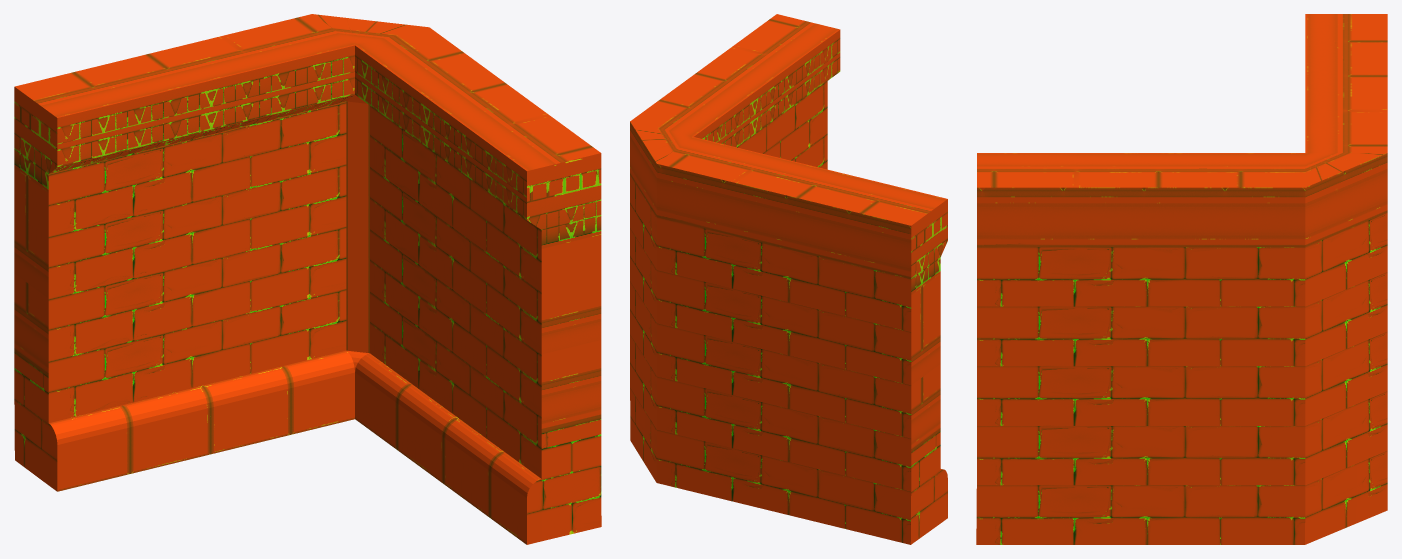
File: Small_Inner_Wall_Corner_ UV Complete.fbx
3 renders of one model, left to right at view 1: azimuth 30°, elevation 25°; view 2: azimuth 150°, elevation 25°; view 3: azimuth 270°, elevation 25°, orthographic. The views are drawn at different scales.
Parts seen in each view (by area): view 1: Wall_0019; view 2: Wall_0019; view 3: Wall_0019.
Part boxes in pixels (left/top/right/bottom): Wall_0019: left=14, top=14, right=601, bottom=544; Wall_0019: left=630, top=14, right=947, bottom=544; Wall_0019: left=976, top=14, right=1387, bottom=544.
Size of the model in its own units: 250 by 240 by 250.
